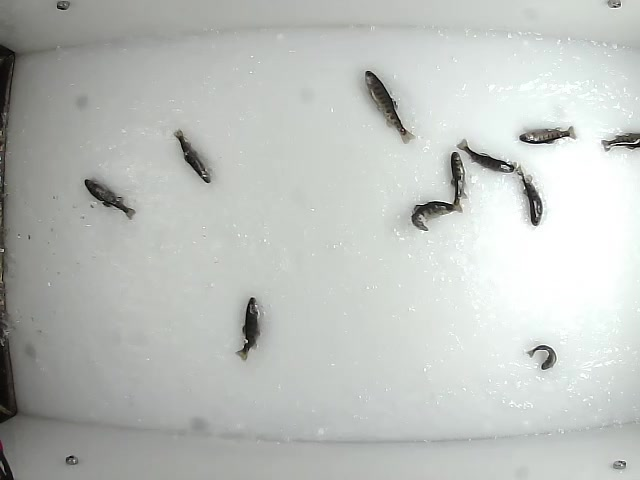fish: (362, 69, 417, 146), (82, 176, 137, 221), (455, 136, 516, 175), (173, 129, 212, 184), (511, 162, 544, 227), (234, 296, 262, 361), (408, 200, 458, 234), (517, 122, 578, 146), (447, 148, 469, 214), (524, 344, 557, 371)
